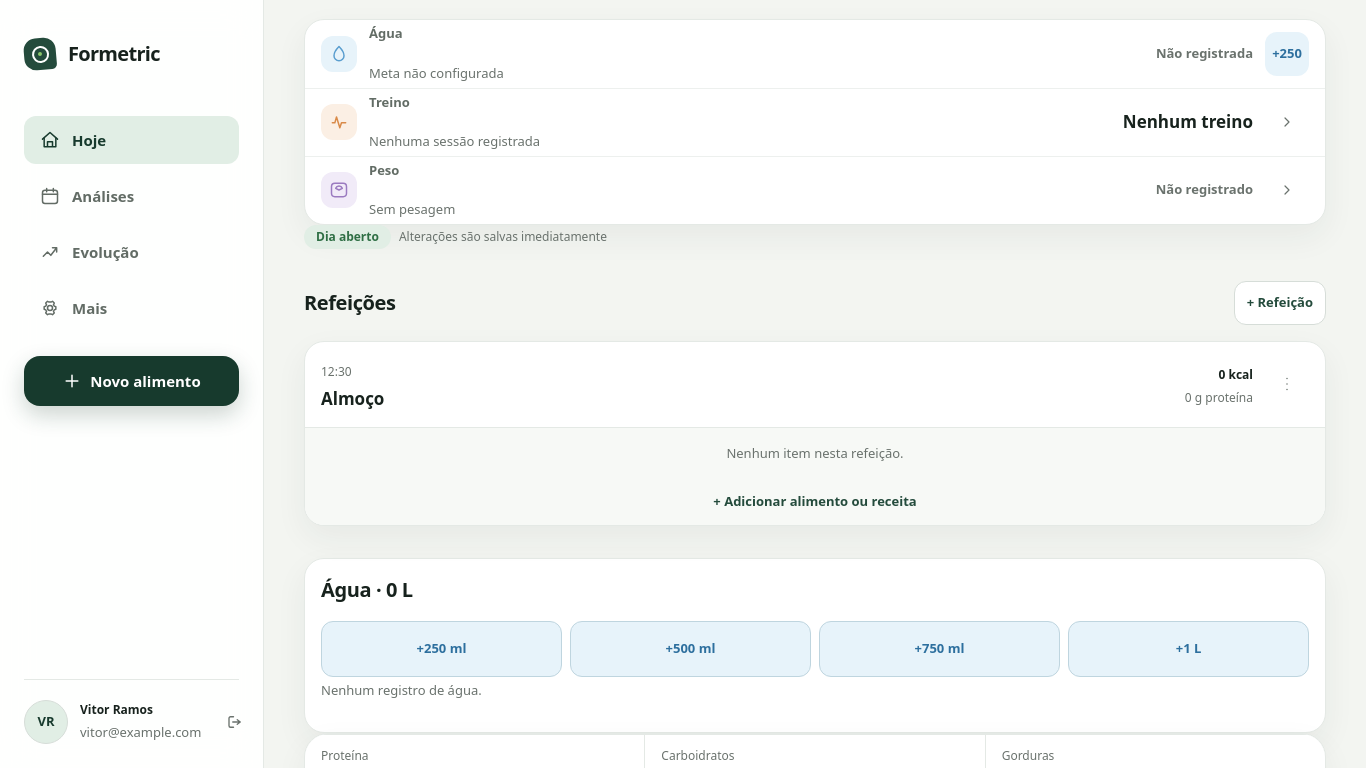
Test: diário › exige confirmação no sheet antes de excluir uma refeição
The width and height of the screenshot is (1366, 768).
(page scrolled)
Click the button named "Ações de Almoço": (1287, 384) [1265, 362, 1309, 406]
(page scrolled)
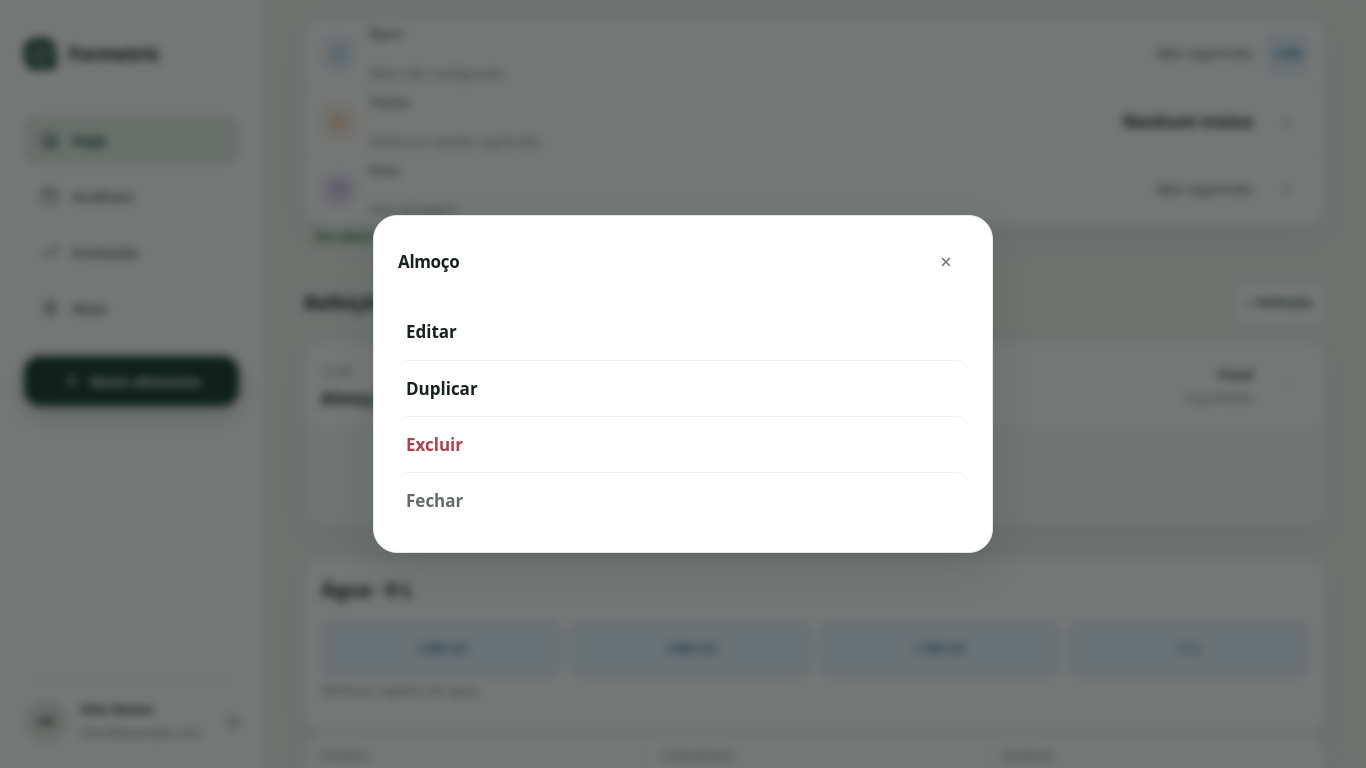
// Um toque em "Excluir" não exclui: ele revela a confirmação.
Click the button "Excluir": (435, 444) [398, 416, 968, 472]
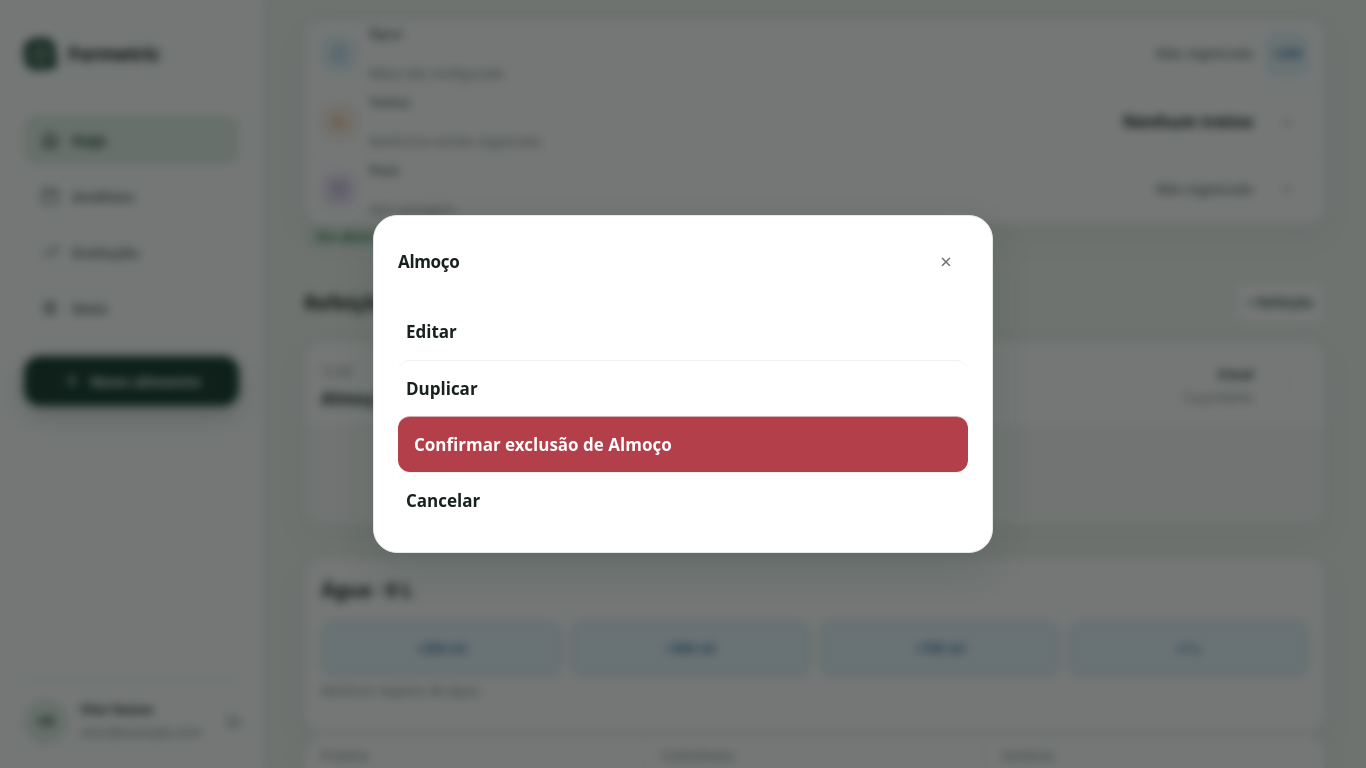
Click the button "Confirmar exclusão de Almoço": (543, 444) [398, 416, 968, 472]
(page scrolled)
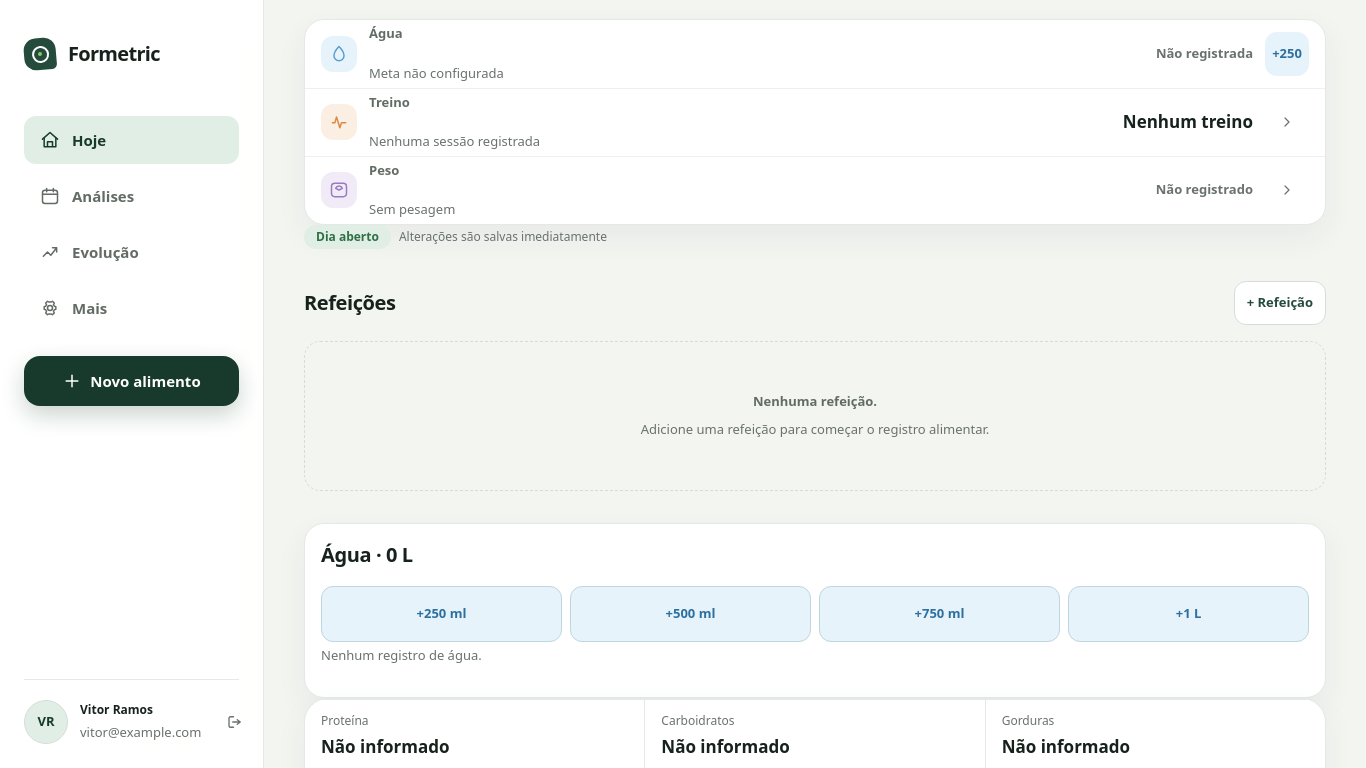
Expected: the heading "Almoço" is gone
